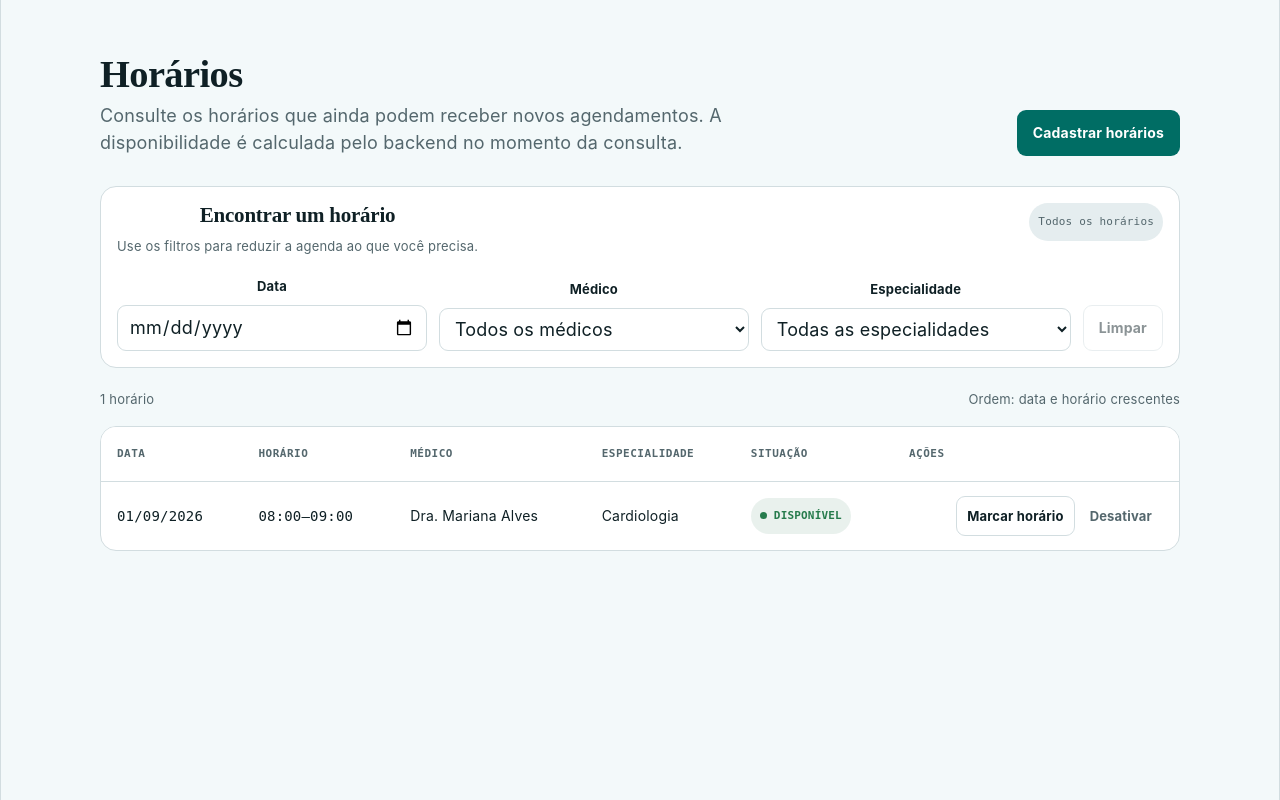
Test: HorariosPage › desativação de horário › erro mantém modal aberto e exibe mensagem
The width and height of the screenshot is (1280, 800).
Click the button "Desativar". click: (1121, 516)
box: [1079,496,1163,536]
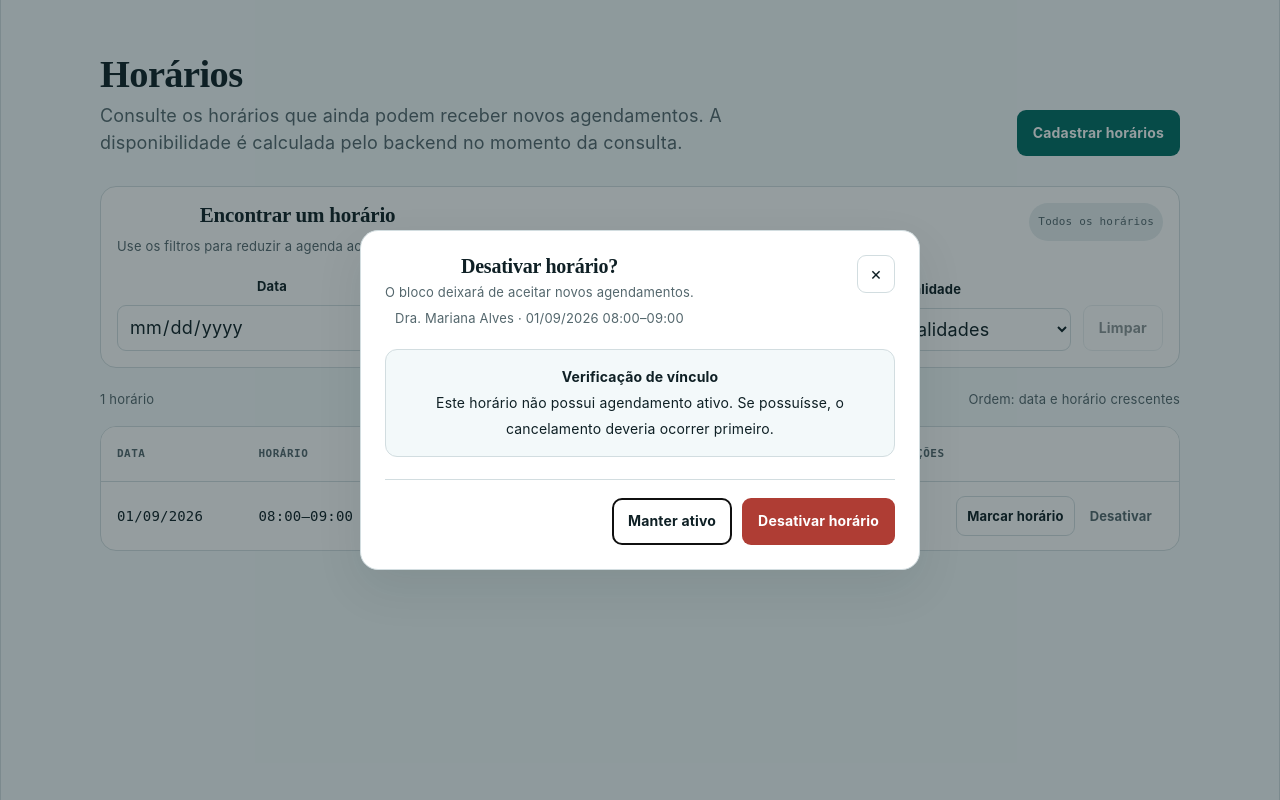
Click the button "Desativar horário". click: (819, 522)
box: [742,498,895,545]
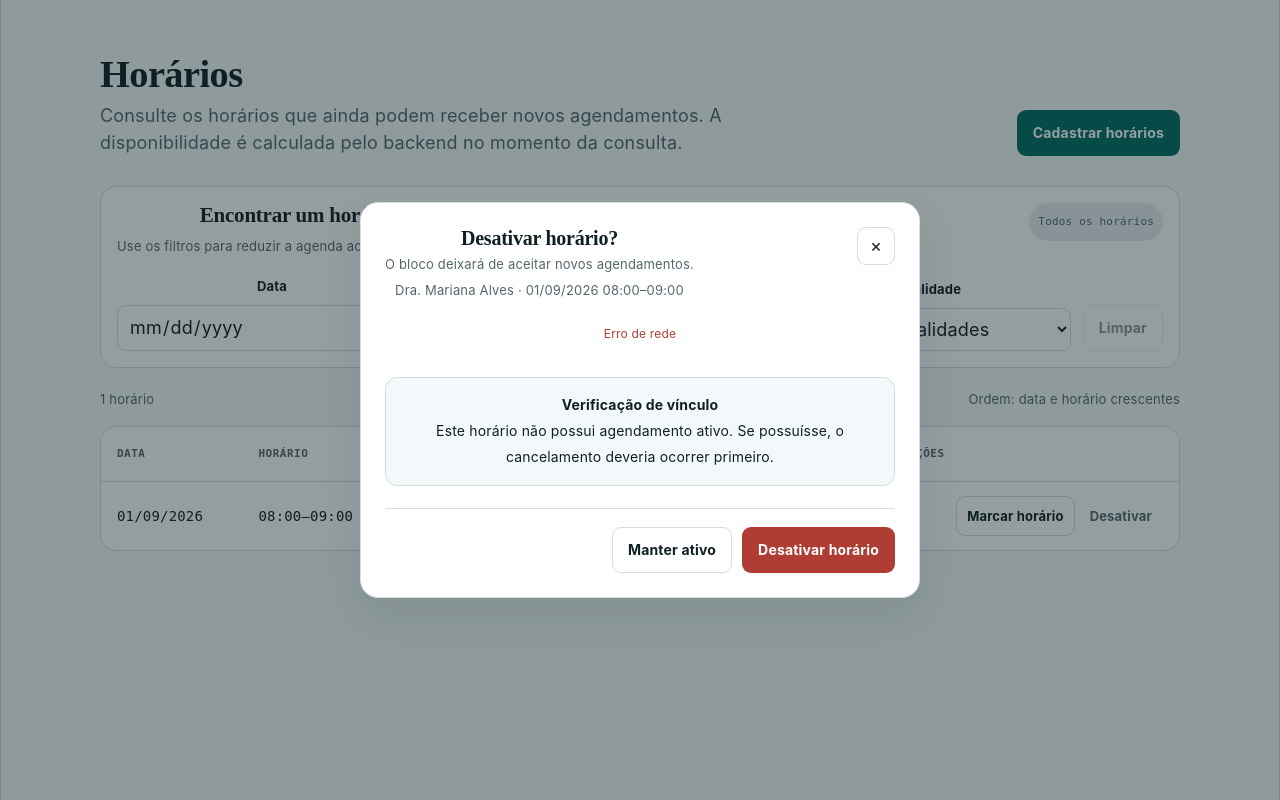
Expected: the text "Erro de rede" is shown, [604,326,676,341]
